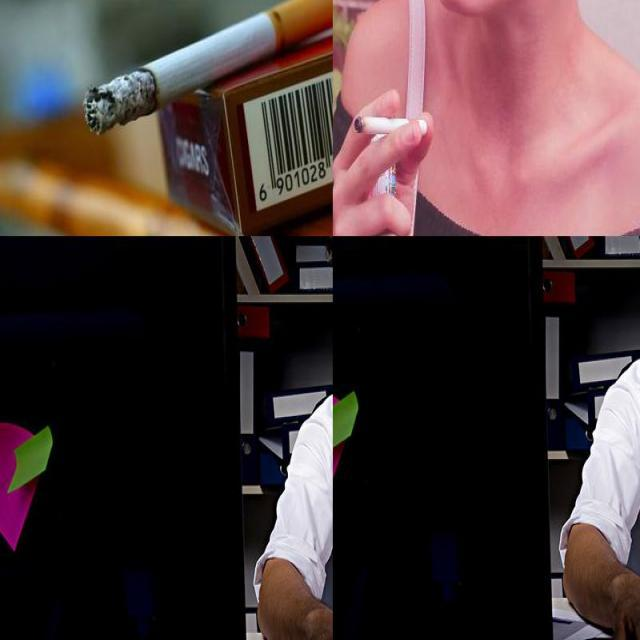cigarette: (83, 0, 332, 137), (354, 116, 428, 137)
